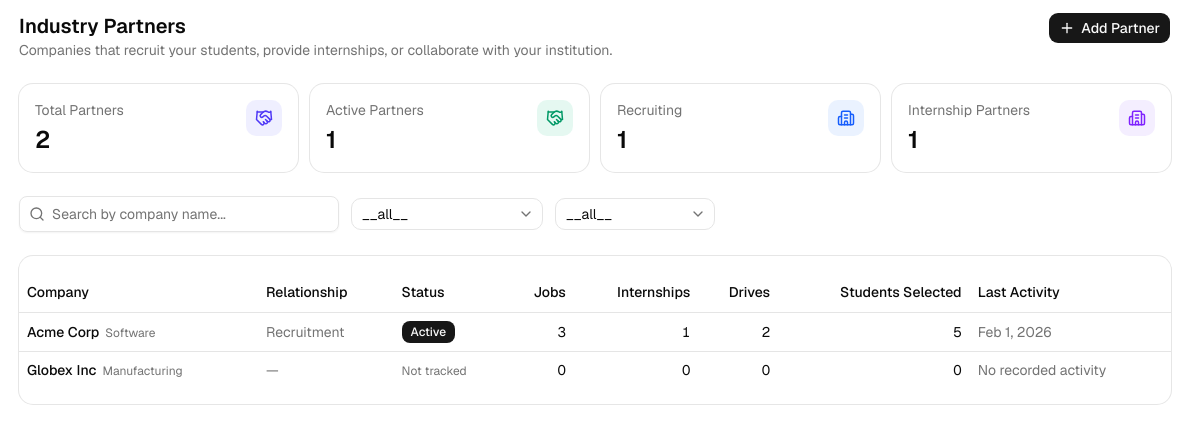
Scenario: IndustryPartnersList › filters by search term
Check: the text "Acme Corp" is shown, box [27,322,99,340]
In the field named "search companies": [179, 214] box [19,196,339,232], type "globex"
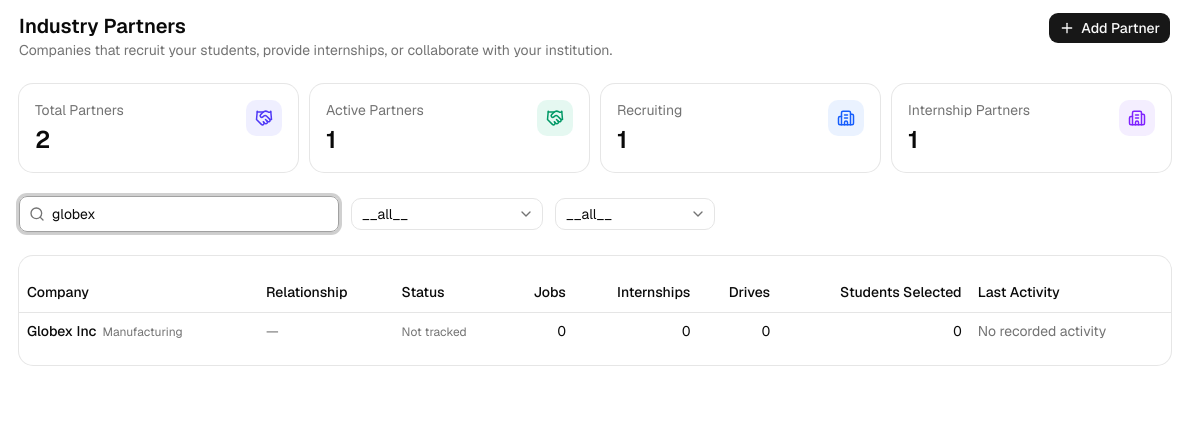
Check: the text "Globex Inc" is shown, box [27,322,96,340]
Check: the text "Acme Corp" is gone
